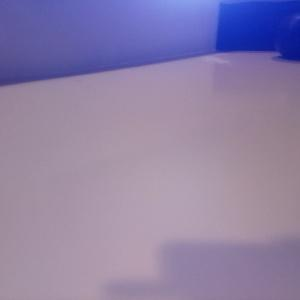dead_ball: (274, 13, 300, 60)
